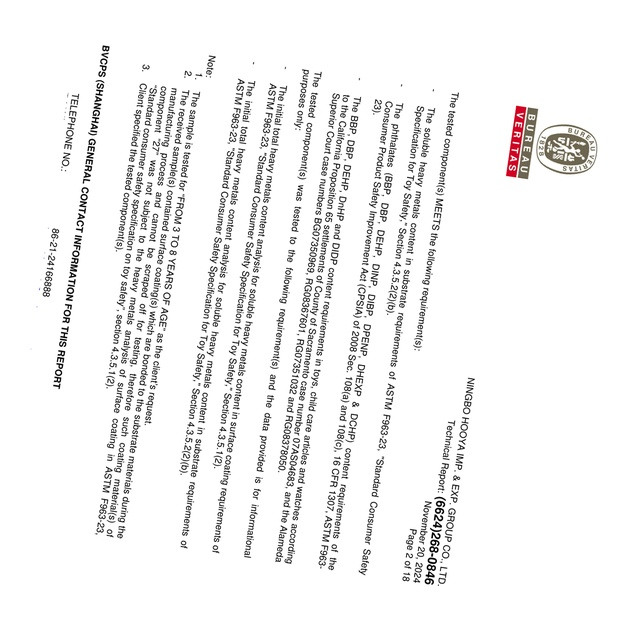bureau_veritas: (503, 102, 599, 185)
